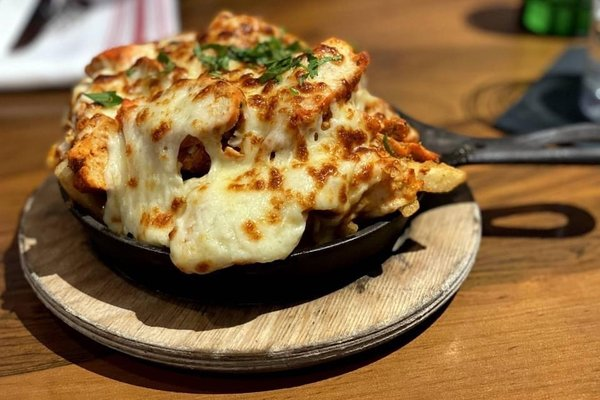curry: (3, 5, 598, 389)
sandwich: (47, 10, 464, 273)
